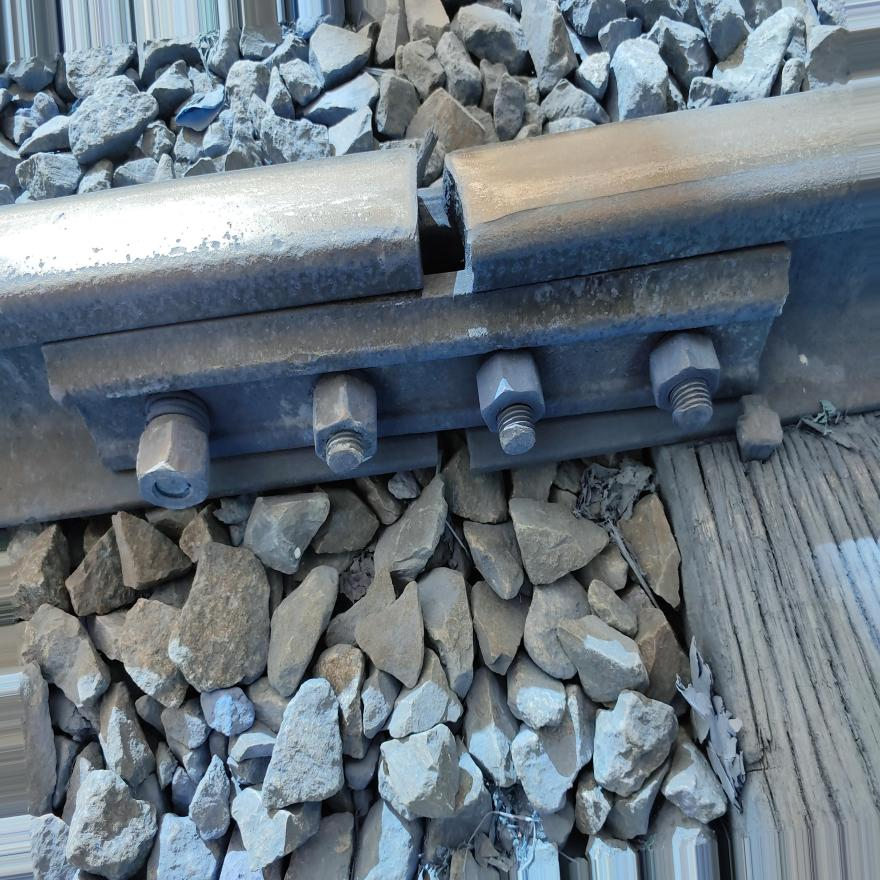railway-gap: (346, 105, 542, 334), (418, 402, 481, 485)
